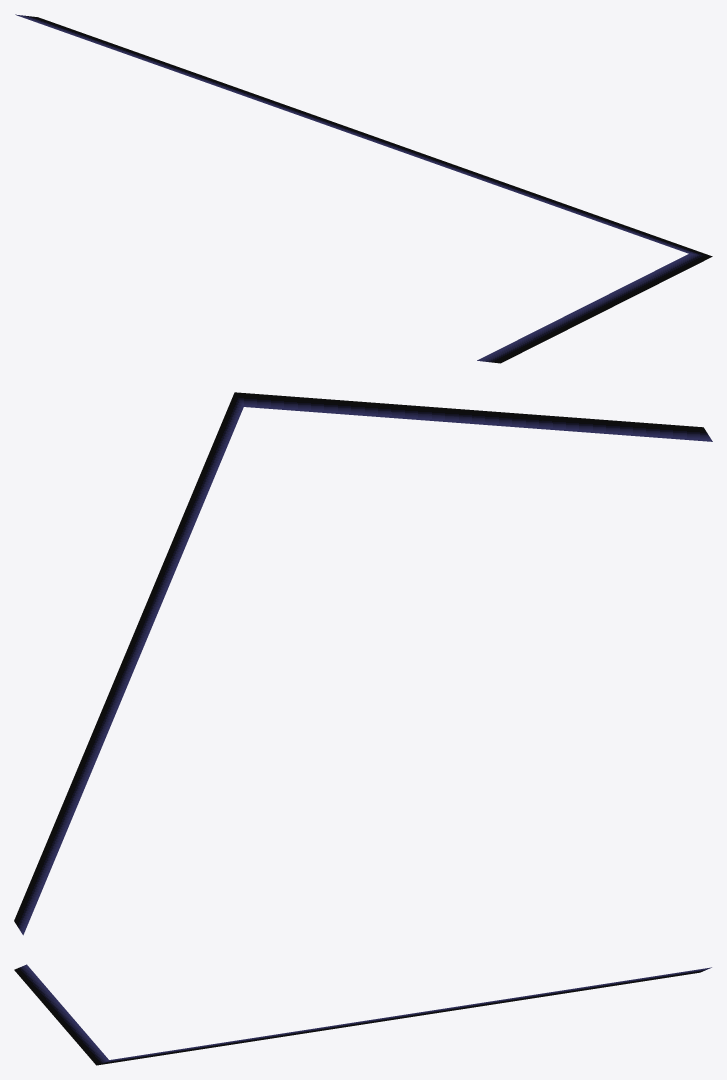
The picture shows the model from 3 angles, top to bottom: view 1: azimuth 30°, elevation 25°; view 2: azimuth 150°, elevation 25°; view 3: azimuth 270°, elevation 25°; orthographic projection. The views are drawn at different scales.
Parts seen in each view (by area): view 1: Joint_0_Object_0; view 2: Joint_0_Object_0; view 3: Joint_0_Object_0.
Boxes of the visible parts, left/top/right/bottom form: Joint_0_Object_0: left=15, top=14, right=712, bottom=363; Joint_0_Object_0: left=14, top=392, right=712, bottom=935; Joint_0_Object_0: left=14, top=964, right=711, bottom=1065.
Size of the model in its own units: 372 by 0 by 1088.
Materials: 1 (1 with a texture image).
